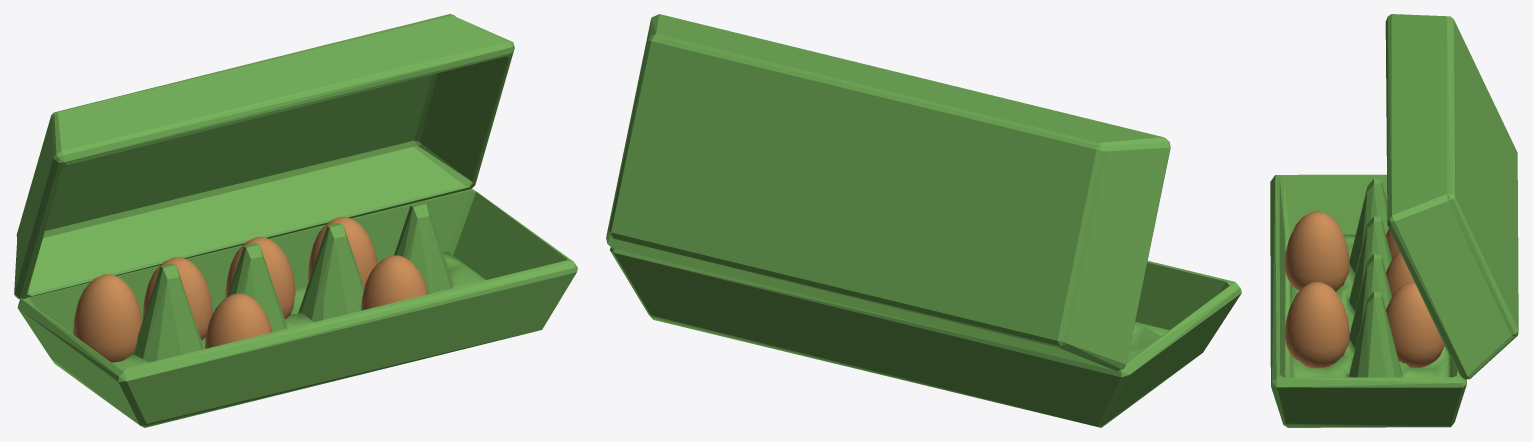
Rendered from Yaiki.fbx.
3 views of the same model, side by side, from view 1: azimuth 30°, elevation 25°; view 2: azimuth 150°, elevation 25°; view 3: azimuth 270°, elevation 25° (orthographic). The views are drawn at different scales.
Visible parts, largest first — view 1: Куб.002; view 2: Куб.002; view 3: Куб.002.
Boxes of the visible parts, x1=… form: Куб.002: x1=14, y1=14, x2=577, y2=427; Куб.002: x1=606, y1=14, x2=1241, y2=427; Куб.002: x1=1270, y1=14, x2=1518, y2=427.
Bounding box in the file's own units: 5.67 × 2.96 × 2.86.
